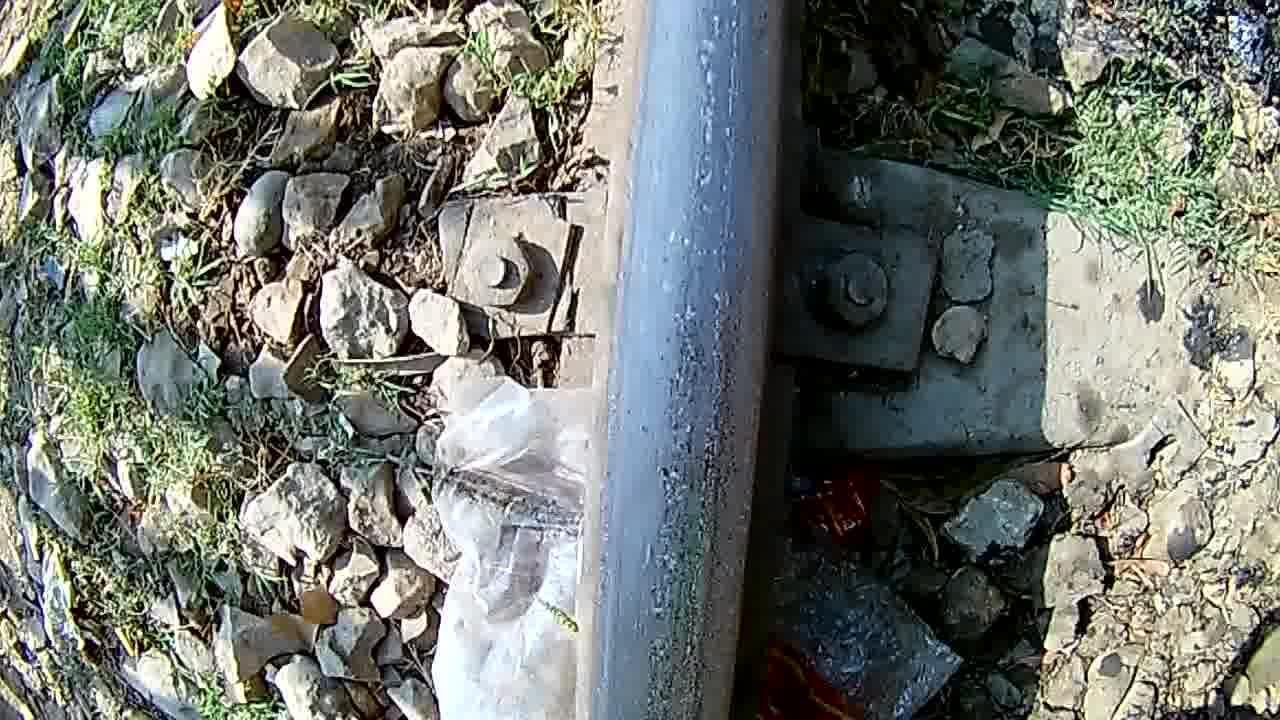crack: (610, 0, 752, 720)
